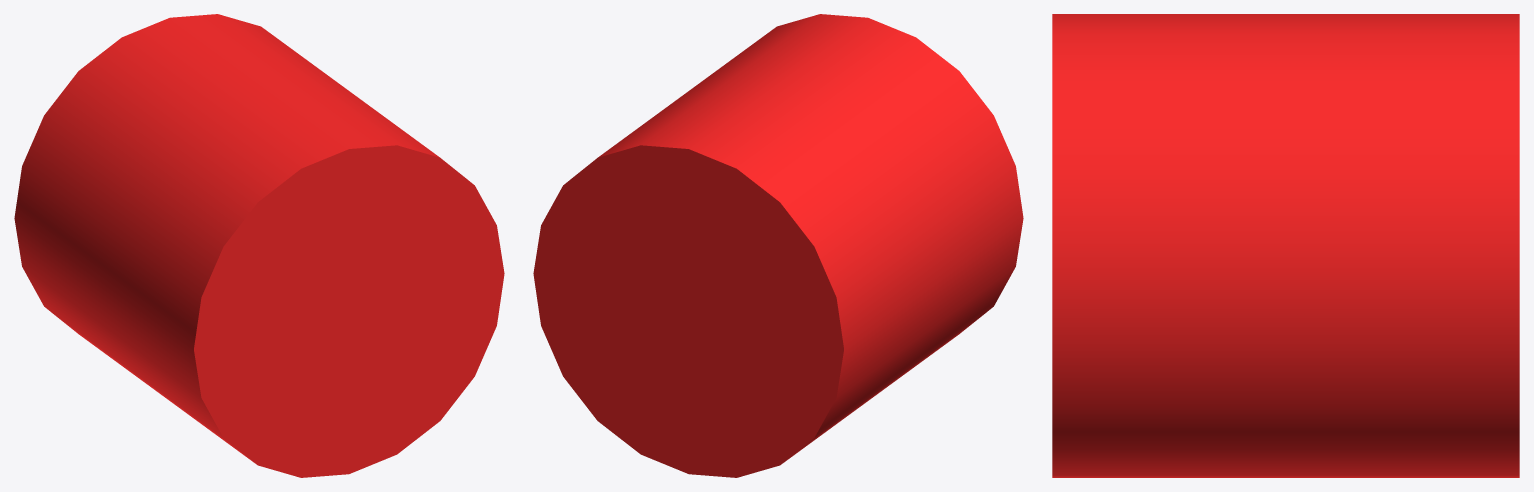
File: Lazer.fbx
3 renders of one model, left to right at view 1: azimuth 30°, elevation 25°; view 2: azimuth 150°, elevation 25°; view 3: azimuth 270°, elevation 25°, orthographic. The views are drawn at different scales.
Visible parts, largest first — view 1: Laser; view 2: Laser; view 3: Laser.
Part boxes in pixels (x1=…): Laser: x1=14, y1=14, x2=504, y2=477; Laser: x1=533, y1=14, x2=1023, y2=477; Laser: x1=1052, y1=14, x2=1519, y2=477.
Bounding box in the file's own units: 2 × 2 × 2.
